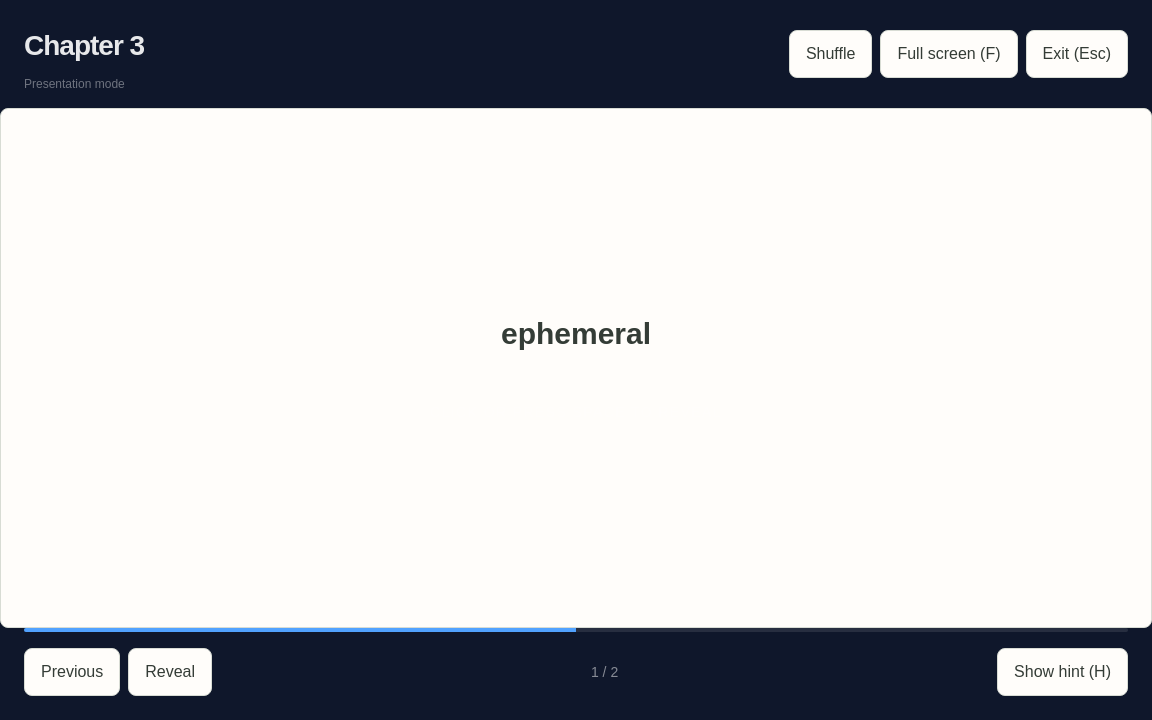
Test: DeckPresentPage › steps back from an answer to the question, then to the previous card
Expected: the text "ephemeral" is shown, [501,317,651,350]
Step 1. Click the button "Reveal" → {"x": 170, "y": 672}, box [128,648,212,696]
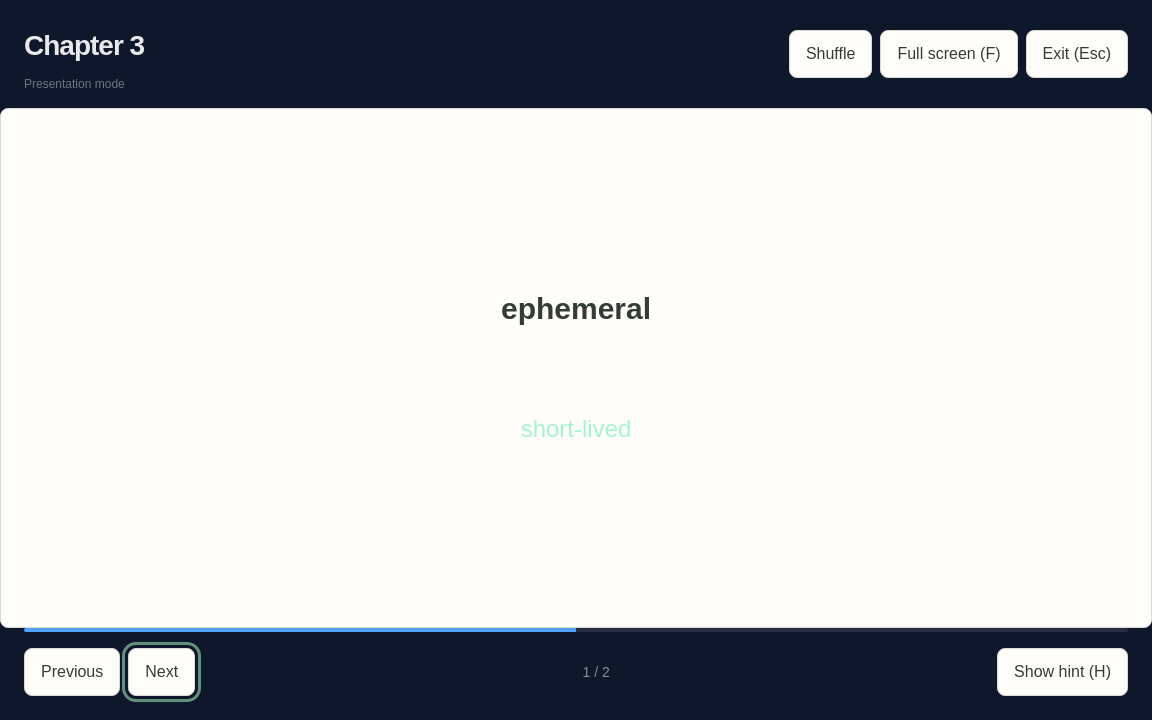
Step 2. Click the button "Next" → {"x": 162, "y": 672}, box [128,648,195,696]
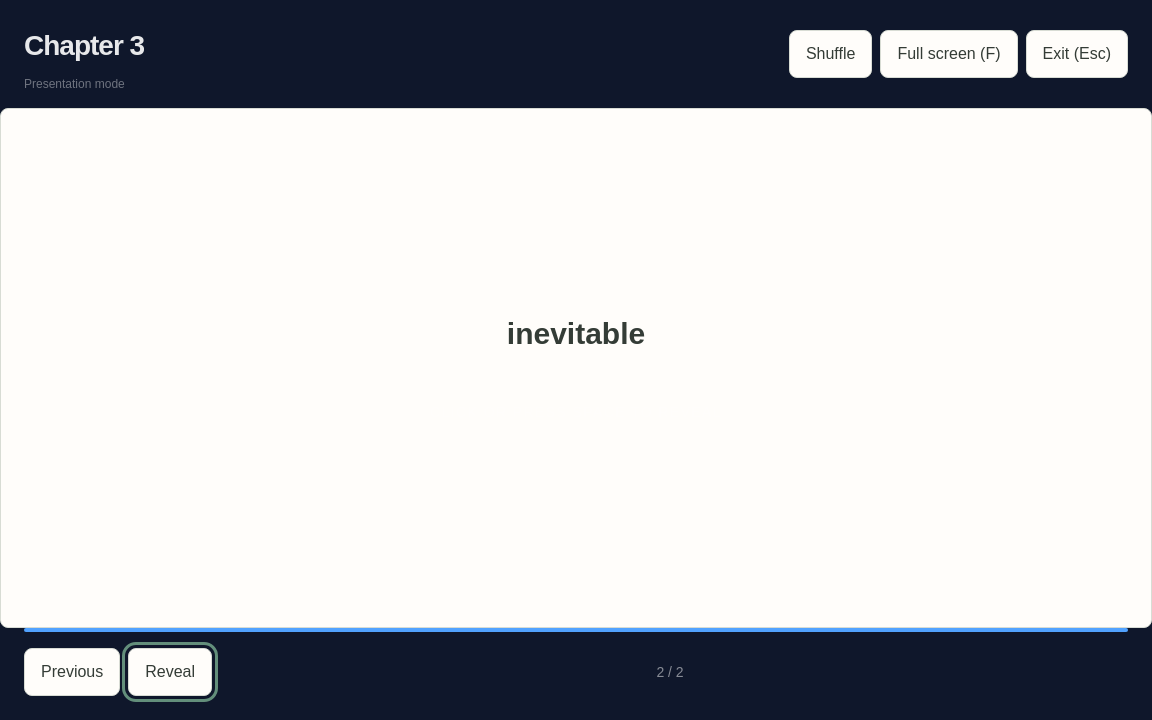
Step 3. Click the button "Reveal" → {"x": 170, "y": 672}, box [128,648,212,696]
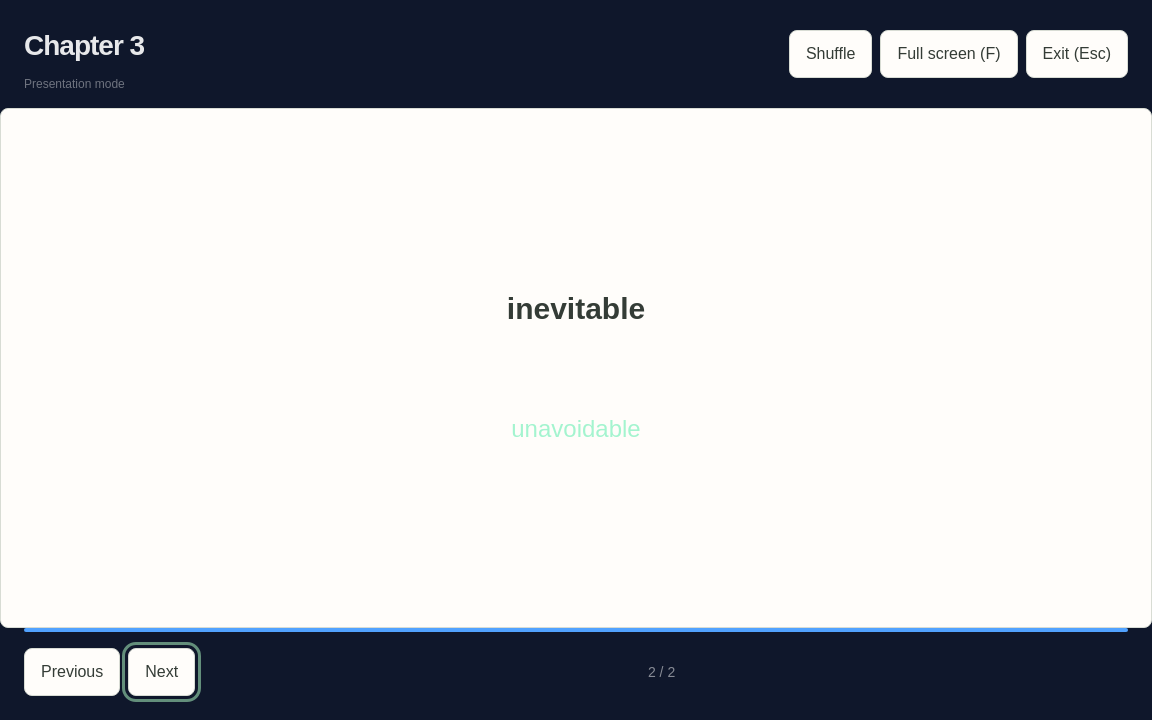
Result: the text "unavoidable" is shown at [511,415,641,442]
Step 4. Click the button "Previous" → {"x": 72, "y": 672}, box [24,648,120,696]
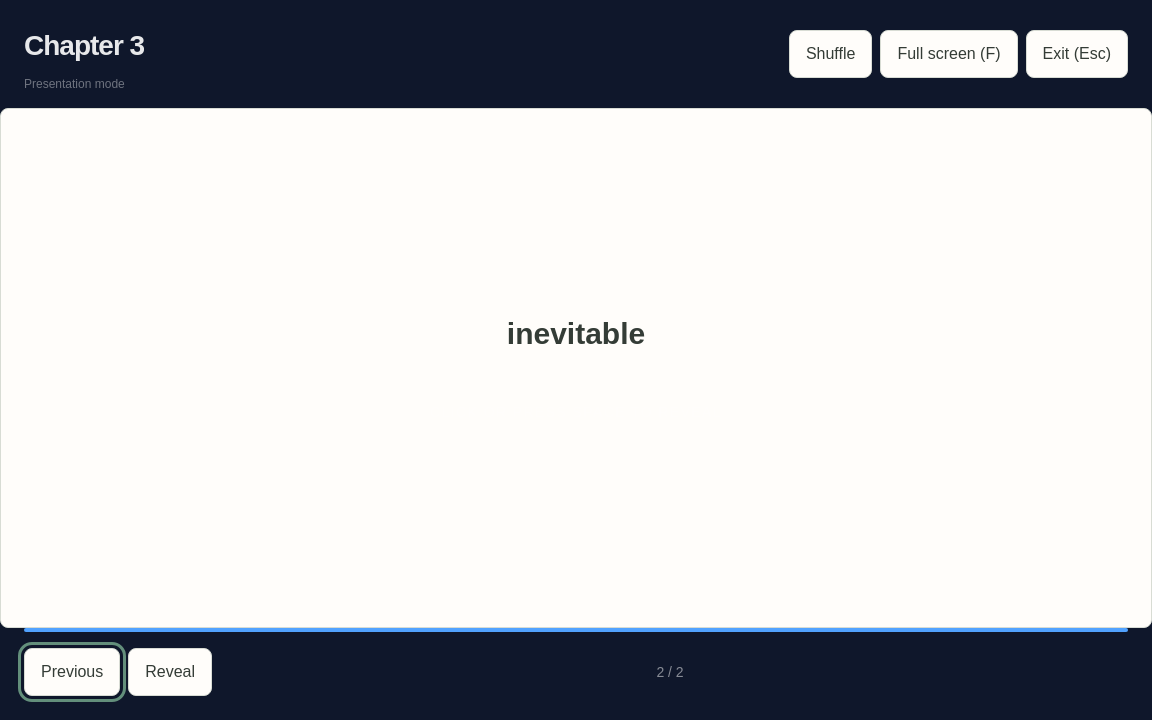
Result: the text "unavoidable" is gone
Step 5. Click the button "Previous" → {"x": 72, "y": 672}, box [24,648,120,696]
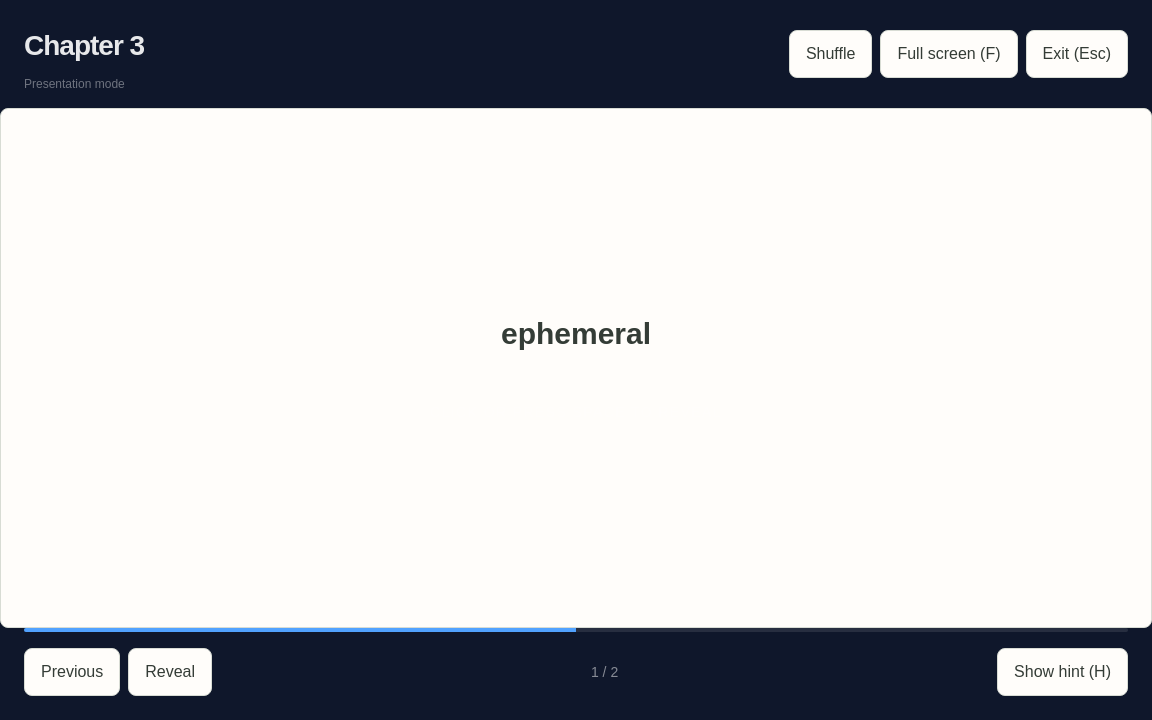
Result: the text "ephemeral" is shown at [501,317,651,350]
Result: the text "1 / 2" is shown at [591,662,618,682]
